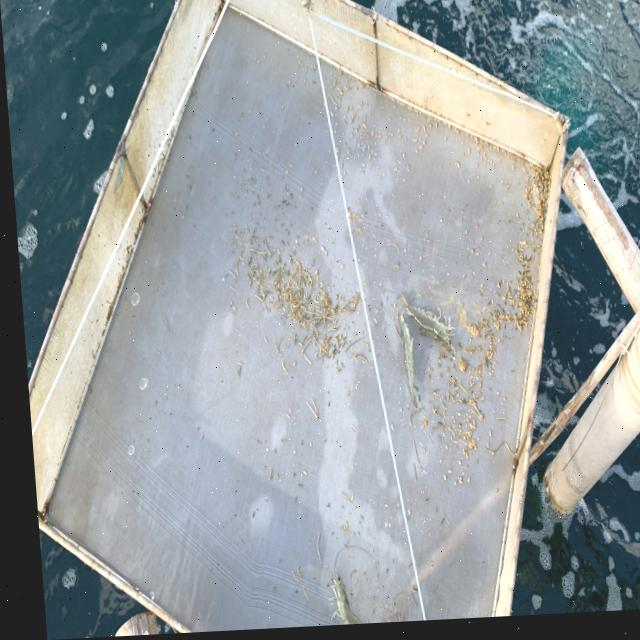Shrimp feeds: (461, 444, 470, 456), (335, 88, 342, 100), (356, 104, 361, 113), (502, 190, 507, 196), (451, 166, 458, 170), (508, 169, 512, 176), (421, 128, 424, 137), (420, 143, 424, 149), (481, 157, 484, 165), (464, 153, 468, 159), (416, 149, 420, 154), (361, 127, 365, 132), (348, 135, 351, 141), (386, 121, 388, 126)
